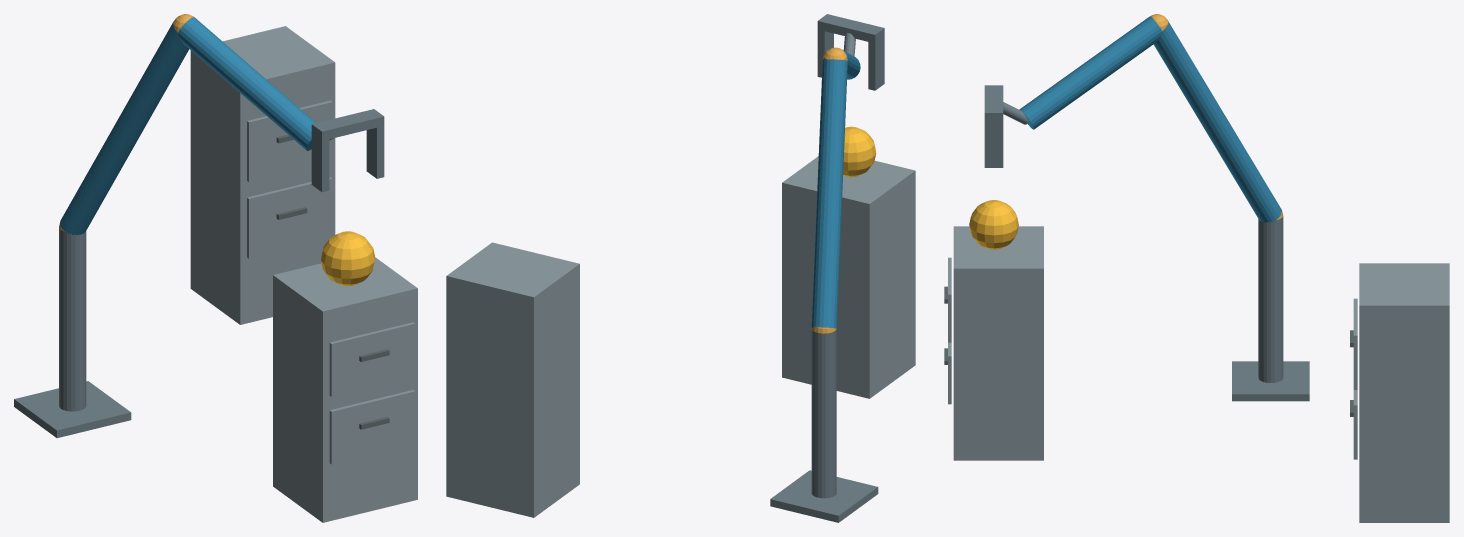
The picture shows the model from 3 angles, left to right: view 1: azimuth 30°, elevation 25°; view 2: azimuth 150°, elevation 25°; view 3: azimuth 270°, elevation 25°; orthographic projection. The views are drawn at different scales.
Parts seen in each view (by area): view 1: cabinet_1 body, cabinet_2 body, moving link 1, cabinet_2 drawer front, fixed post, moving link 2, cabinet_1 drawer front, cabinet_1 drawer front.001, cabinet_2 drawer front.001, pedestal, ball ball_1, gripper bridge (+2 smaller); view 2: cabinet_2 body, cabinet_1 body, moving link 1, fixed post, pedestal, ball ball_1, gripper bridge, gripper finger -1; view 3: cabinet_2 body, cabinet_1 body, moving link 1, fixed post, moving link 2, pedestal, ball ball_1, gripper finger 1, gripper bridge.
Boxes of the visible parts, x1,y1,x2,y2 form: cabinet_1 body: [273, 257, 417, 522]; cabinet_2 body: [190, 26, 335, 324]; moving link 1: [60, 21, 189, 234]; cabinet_2 drawer front: [247, 177, 332, 258]; fixed post: [59, 226, 86, 411]; moving link 2: [178, 17, 315, 150]; cabinet_1 drawer front: [329, 390, 415, 464]; cabinet_1 drawer front.001: [329, 322, 415, 396]; cabinet_2 drawer front.001: [247, 100, 332, 182]; pedestal: [14, 381, 131, 438]; ball ball_1: [321, 231, 375, 285]; gripper bridge: [311, 109, 384, 140]; cabinet_2 body: [446, 242, 579, 517]; cabinet_1 body: [782, 156, 915, 398]; moving link 1: [811, 59, 847, 328]; fixed post: [811, 329, 836, 498]; pedestal: [770, 470, 878, 522]; ball ball_1: [843, 126, 876, 177]; gripper bridge: [817, 14, 884, 43]; gripper finger -1: [868, 37, 884, 90]; cabinet_2 body: [1359, 263, 1449, 522]; cabinet_1 body: [953, 226, 1043, 460]; moving link 1: [1153, 21, 1281, 222]; fixed post: [1258, 216, 1283, 382]; moving link 2: [1019, 16, 1162, 129]; pedestal: [1232, 361, 1309, 401]; ball ball_1: [969, 200, 1018, 249]; gripper finger 1: [984, 121, 1003, 167]; gripper bridge: [984, 85, 1003, 121].
Bounding box in the file's own units: 1.17 × 1.39 × 1.62.
